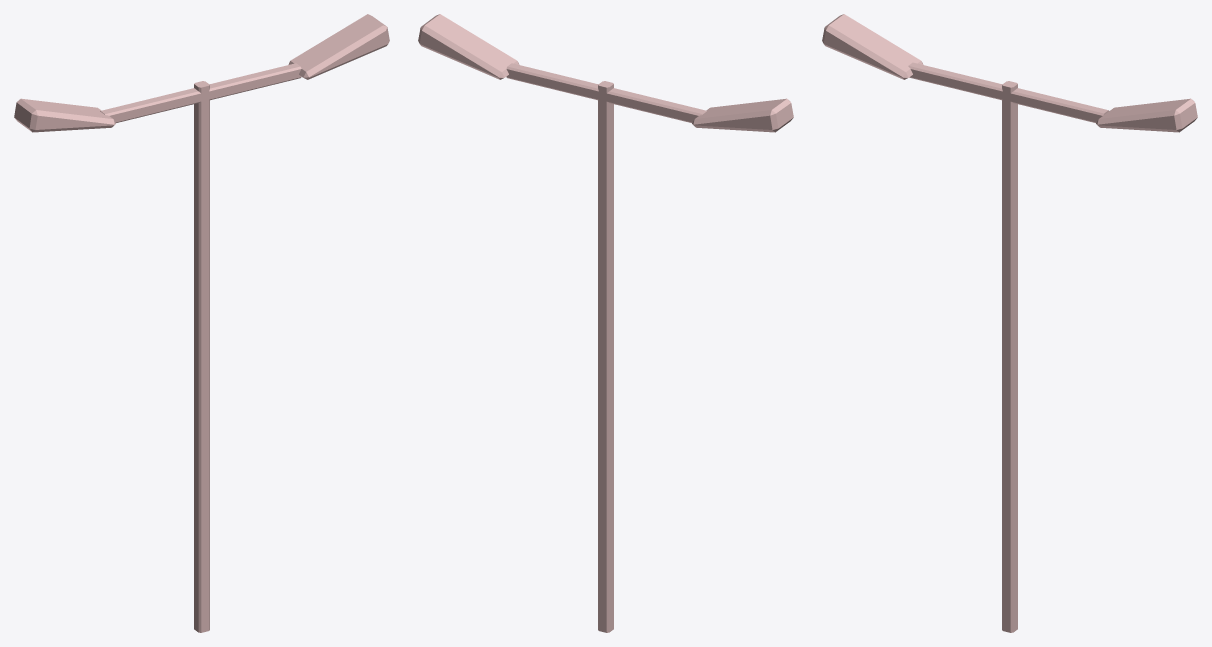
Rendered from StreetLight.fbx.
The picture shows the model from 3 angles, left to right: view 1: azimuth 30°, elevation 25°; view 2: azimuth 150°, elevation 25°; view 3: azimuth 330°, elevation 25°; orthographic projection.
Visible parts, largest first — view 1: polySurface20; view 2: polySurface20; view 3: polySurface20.
Boxes of the visible parts, x1,y1,x2,y2 form: polySurface20: (14,14,389,632); polySurface20: (418,14,793,632); polySurface20: (822,14,1197,632).
Bounding box in the file's own units: 4.1 × 6.17 × 0.3906.
